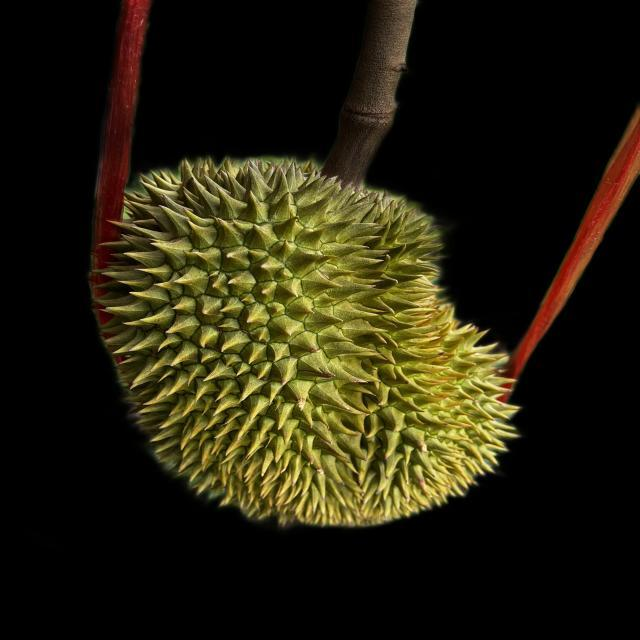immature: (102, 154, 514, 532)
